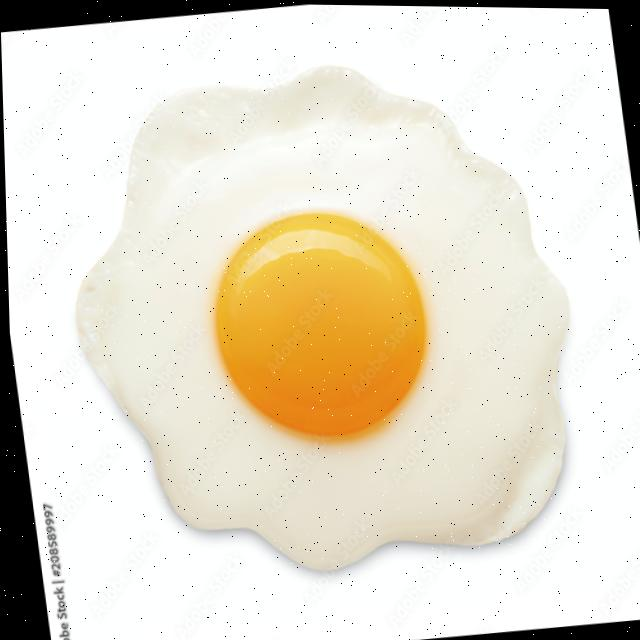Egg: (74, 65, 567, 568)
